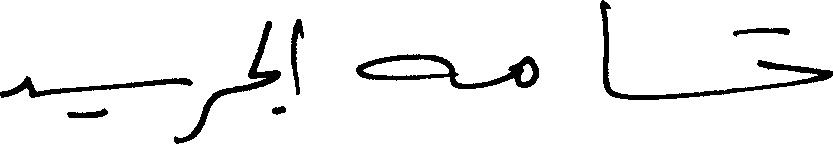X: (759, 23, 832, 94), (357, 49, 455, 92), (248, 16, 279, 119), (194, 87, 216, 142), (0, 71, 31, 102), (515, 51, 538, 92), (600, 0, 609, 99), (290, 14, 300, 99), (181, 73, 192, 143)
